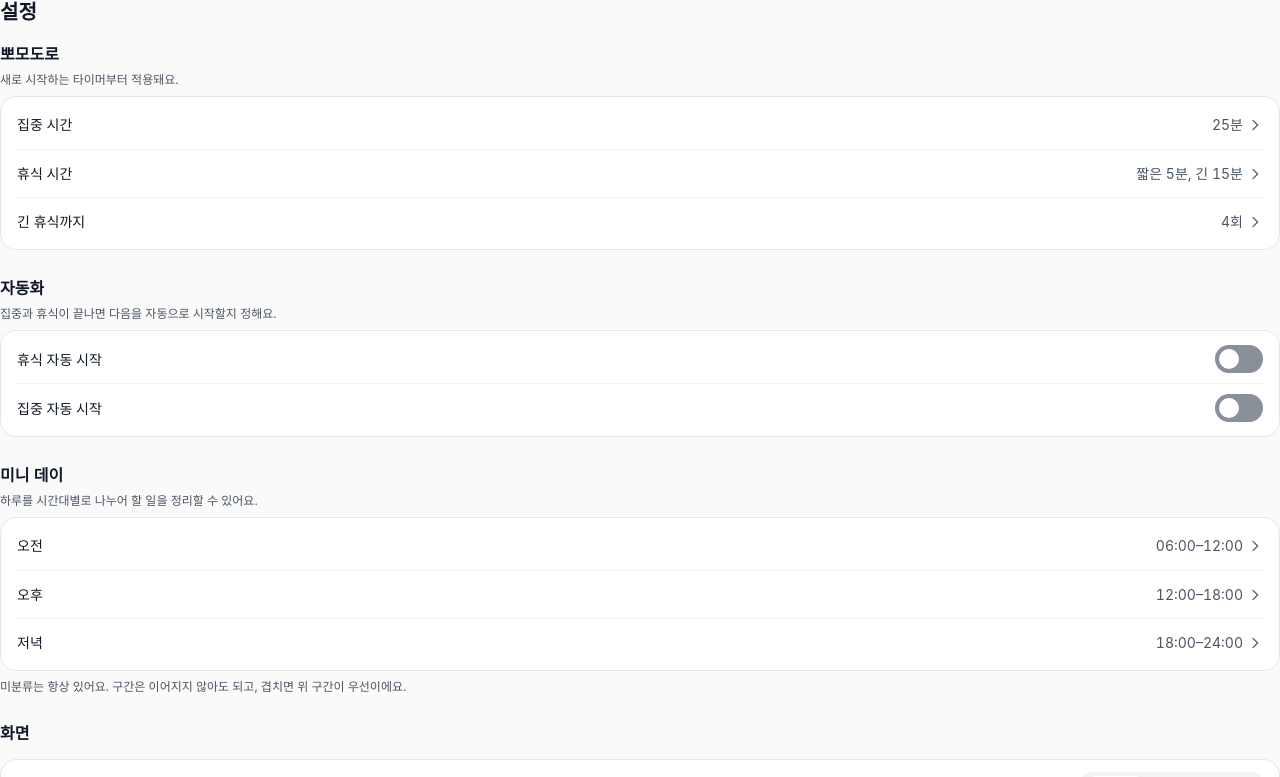
PomodoroSettingsPage › picks times on a 24-hour wheel: start 00–23, end 01–24, and 24 always means 24:00
Step 1. Click the button "저녁 18:00–24:00" → x=640, y=642, box [17, 618, 1263, 666]
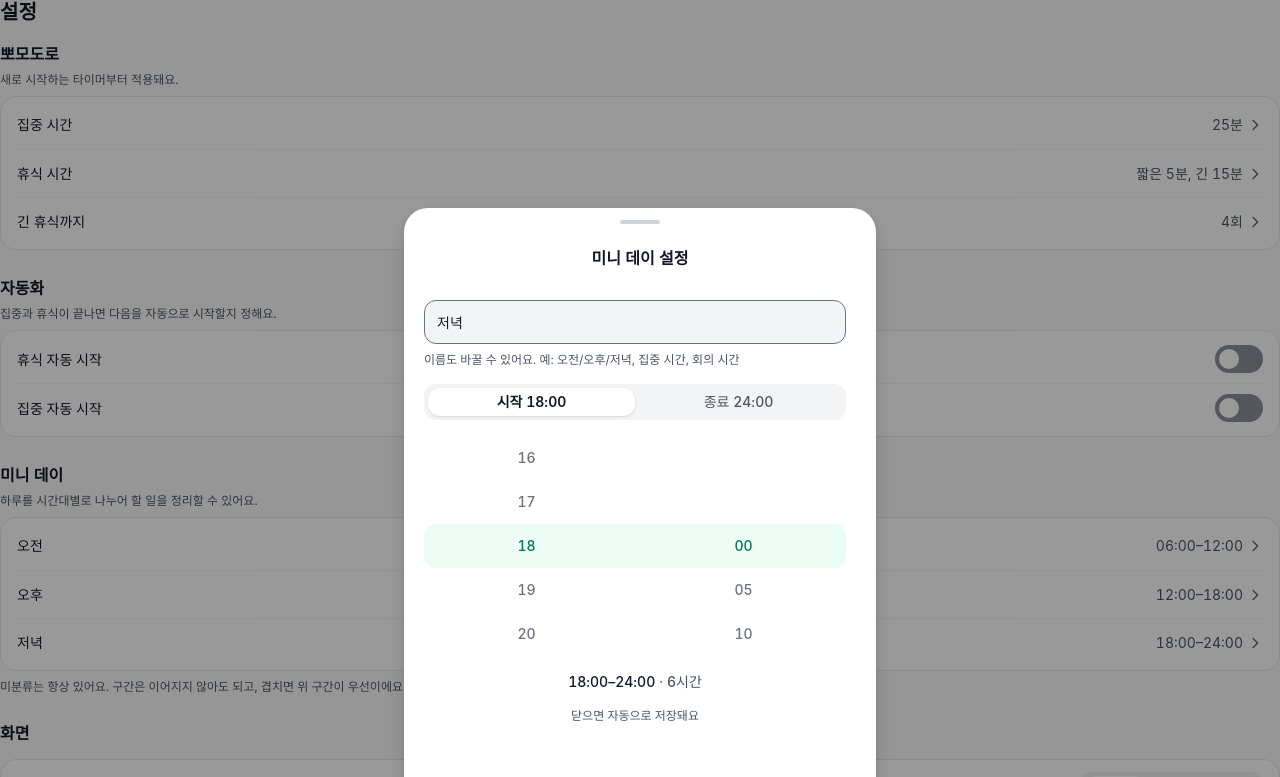
Expected: the radio button labelled "시작 18:00" is shown, [428, 388, 635, 416]
Step 2. Click the button "19" → x=526, y=590, box [424, 568, 629, 612]
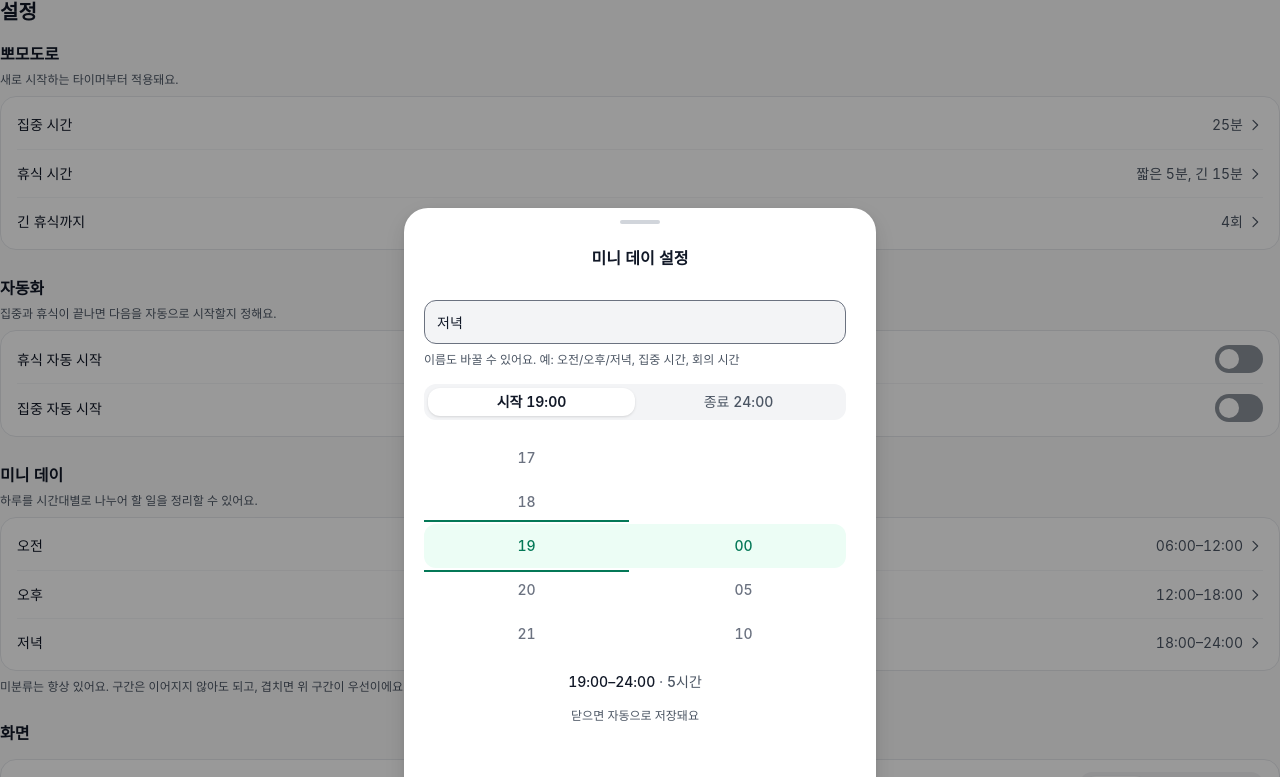
Expected: the radio button labelled "시작 19:00" is shown, [428, 388, 635, 416]
Step 3. Click the radio button labelled "종료 24:00" → x=738, y=402, box [635, 388, 842, 416]
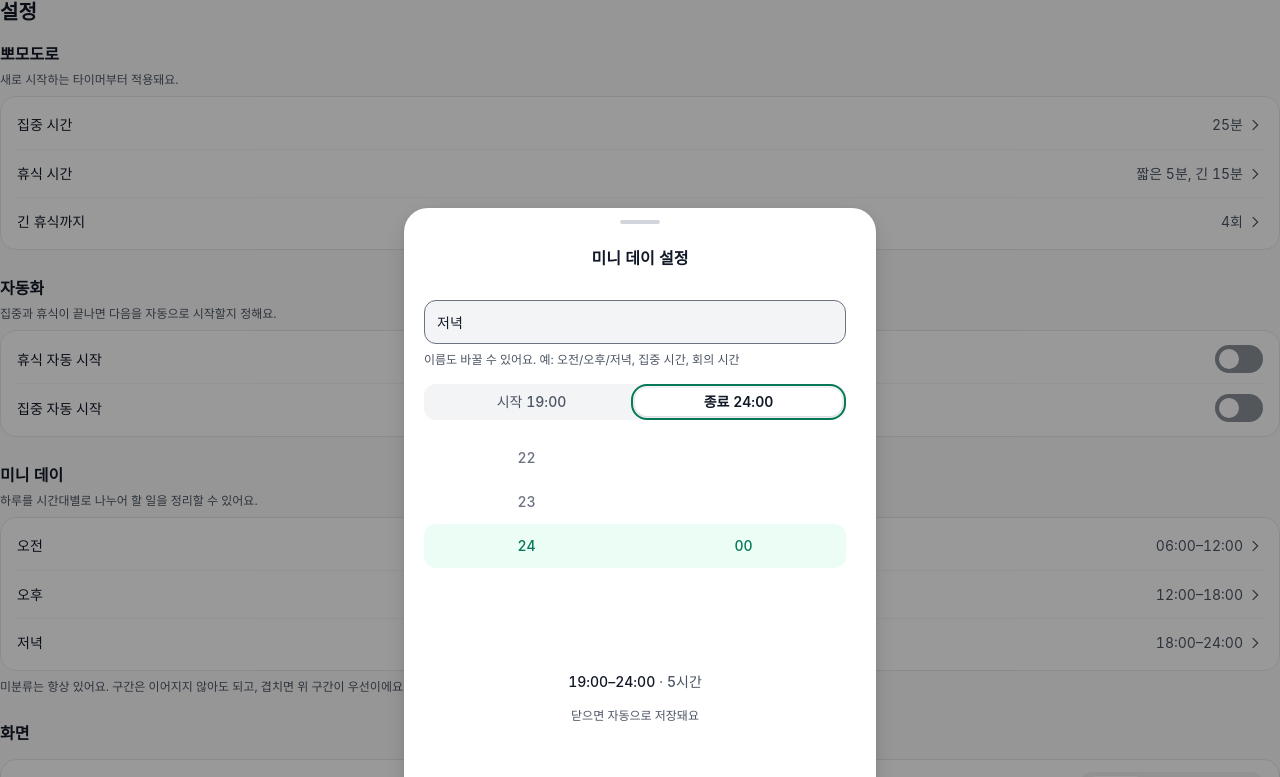
Expected: the radio button labelled "종료 24:00" is shown, [635, 388, 842, 416]
Step 4. Click the button "23" → x=526, y=502, box [424, 480, 629, 524]
(page scrolled)
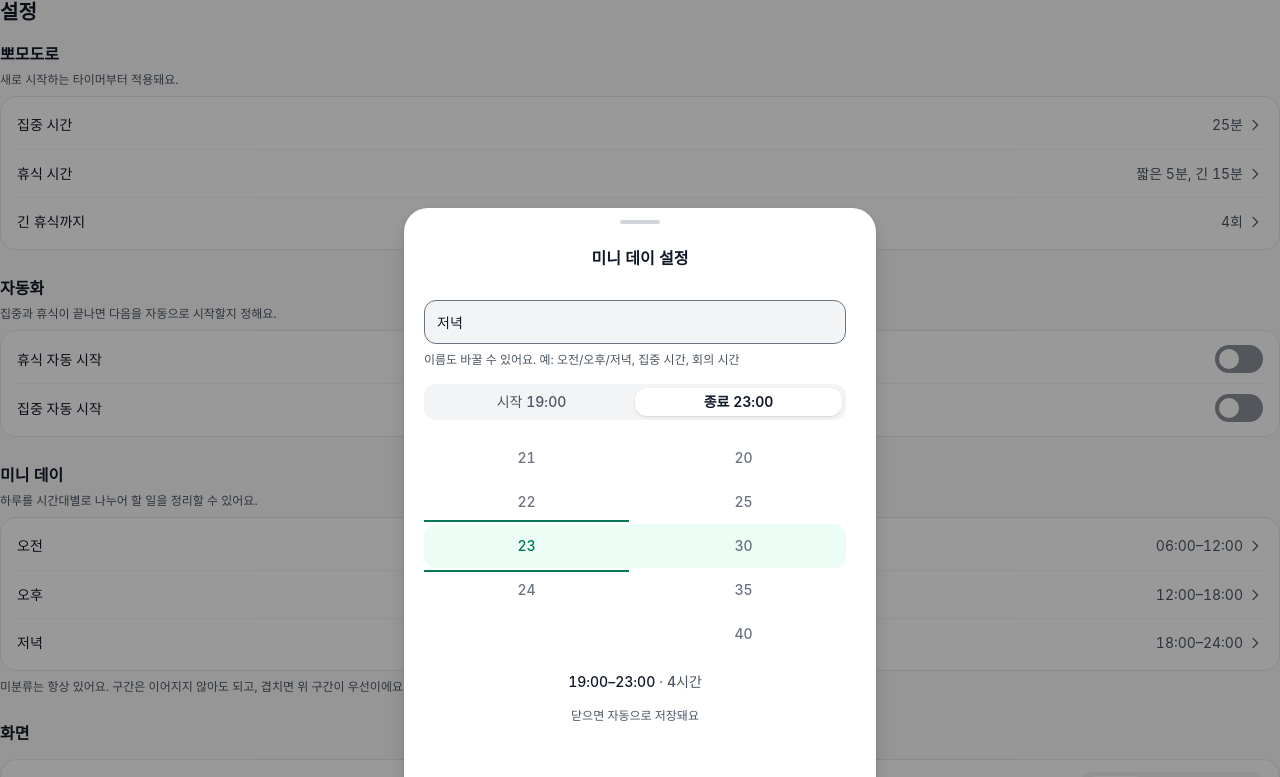
Expected: the radio button labelled "종료 23:00" is shown, [635, 388, 842, 416]
Step 5. Click the button "30" → x=744, y=546, box [641, 524, 846, 568]
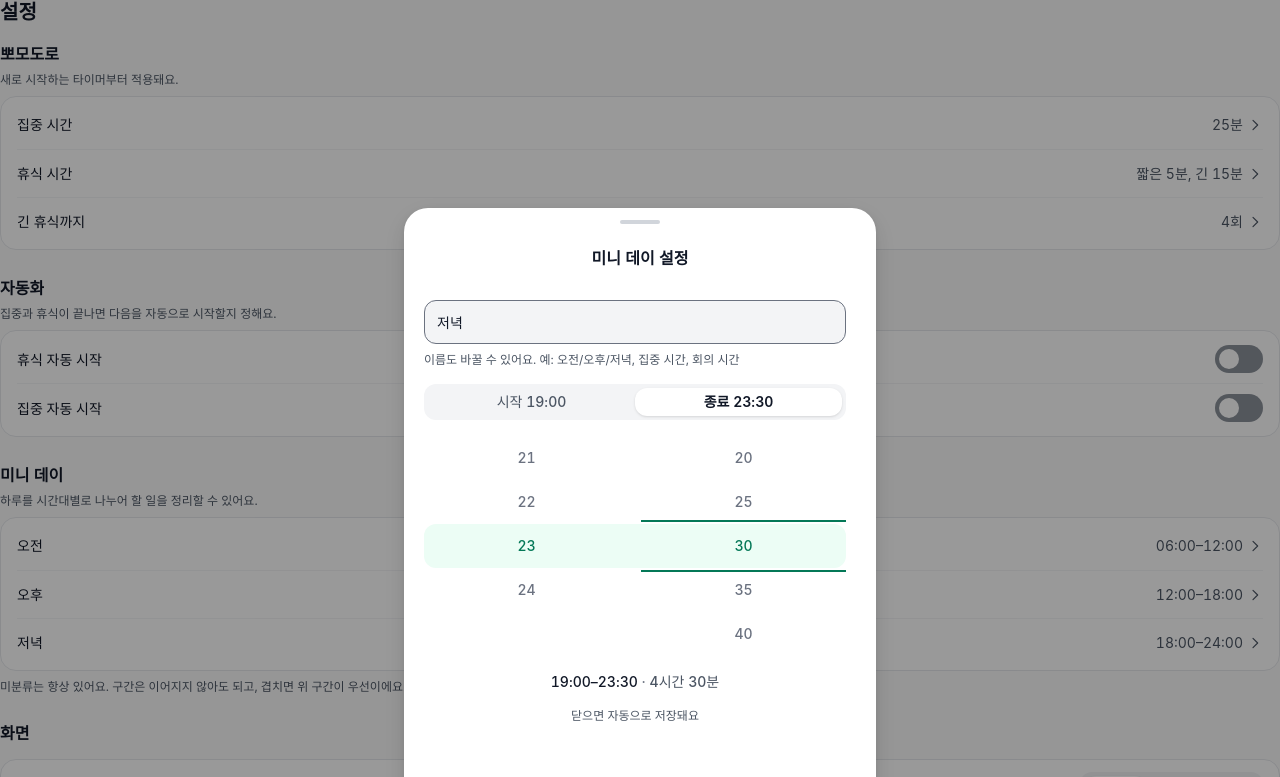
Expected: the radio button labelled "종료 23:30" is shown, [635, 388, 842, 416]
